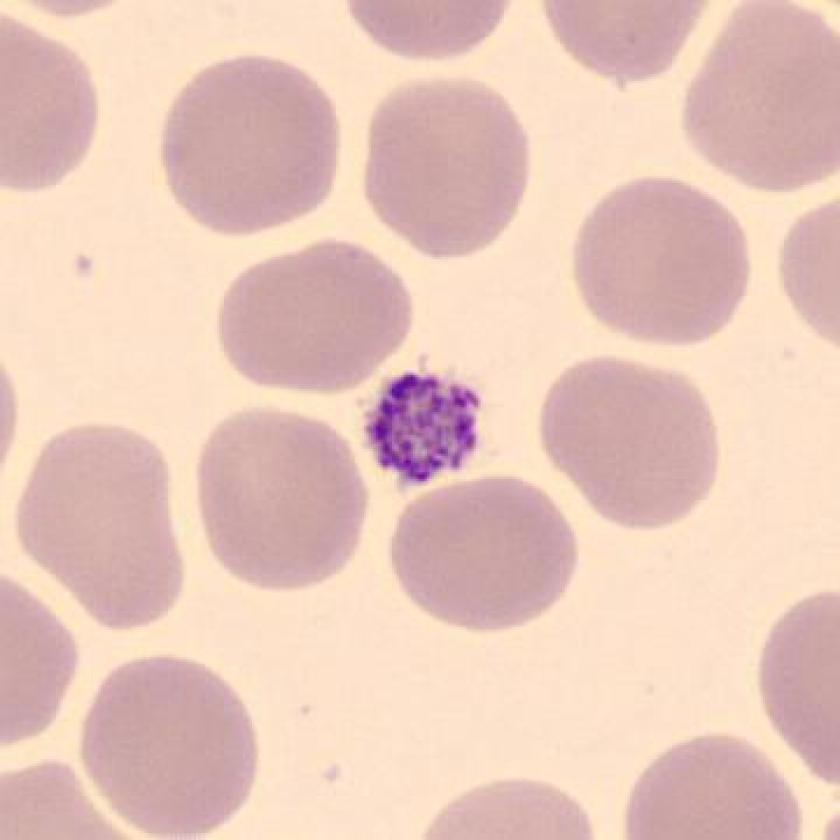platelets: (353, 362, 491, 485)
